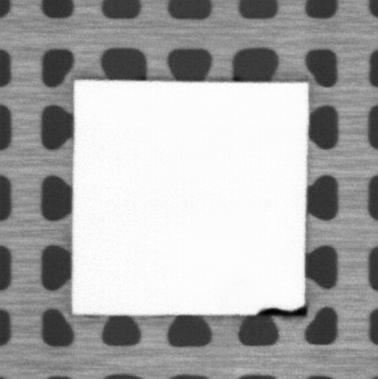DIE_BROKEN: (256, 305, 308, 317)
